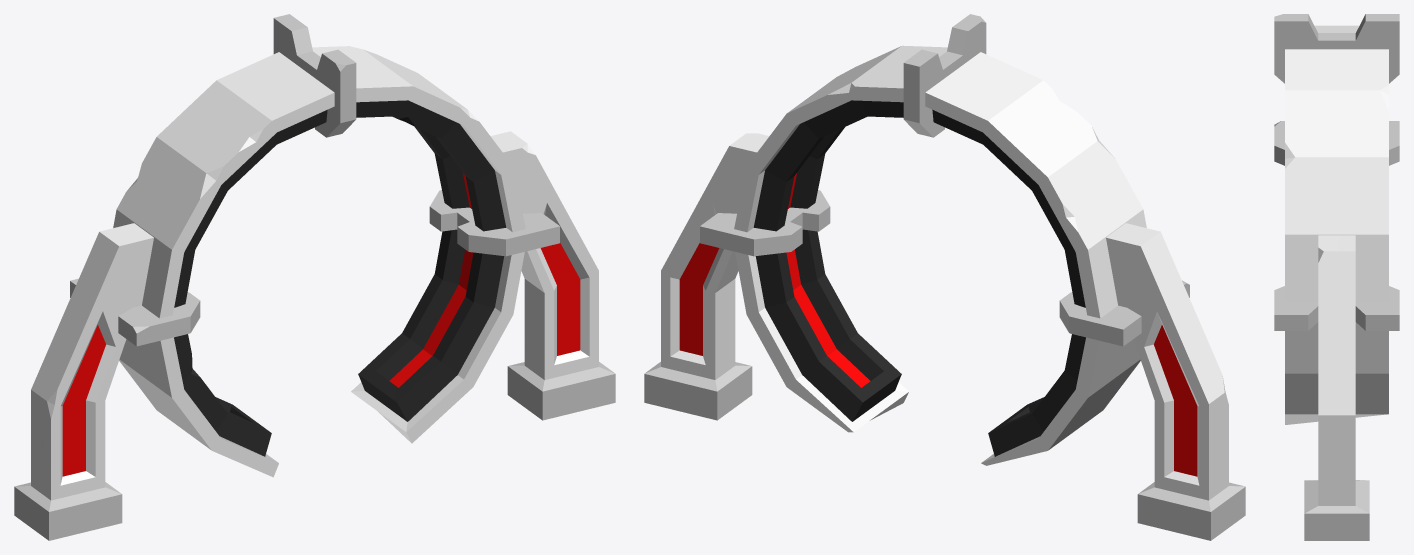
File: MedicalScanner_01.fbx
The picture shows the model from 3 angles, left to right: view 1: azimuth 30°, elevation 25°; view 2: azimuth 150°, elevation 25°; view 3: azimuth 270°, elevation 25°; orthographic projection. The views are drawn at different scales.
Visible parts, largest first — view 1: Medical_Scanner_01; view 2: Medical_Scanner_01; view 3: Medical_Scanner_01.
Boxes of the visible parts, x1,y1,x2,y2 form: Medical_Scanner_01: (14,14,615,540); Medical_Scanner_01: (644,14,1245,540); Medical_Scanner_01: (1274,14,1399,540).
Size of the model in its own units: 927 by 654 by 189.
